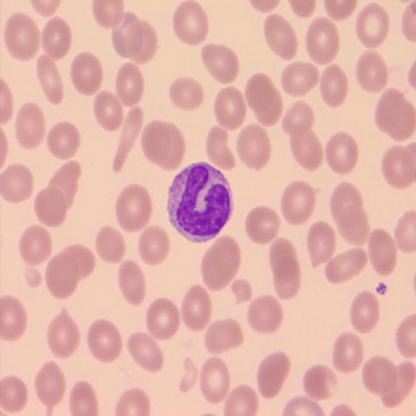Monocyte: (166, 159, 235, 245)
